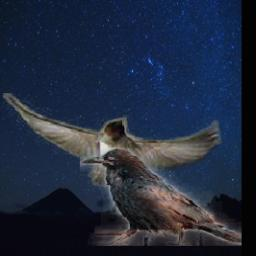Crow: (80, 149, 242, 247)
Swallow: (3, 93, 222, 192)
